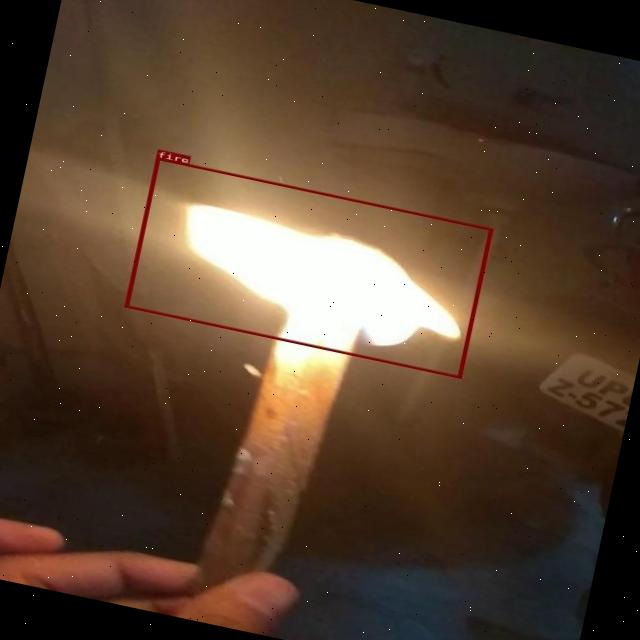fire: (124, 156, 492, 378)
